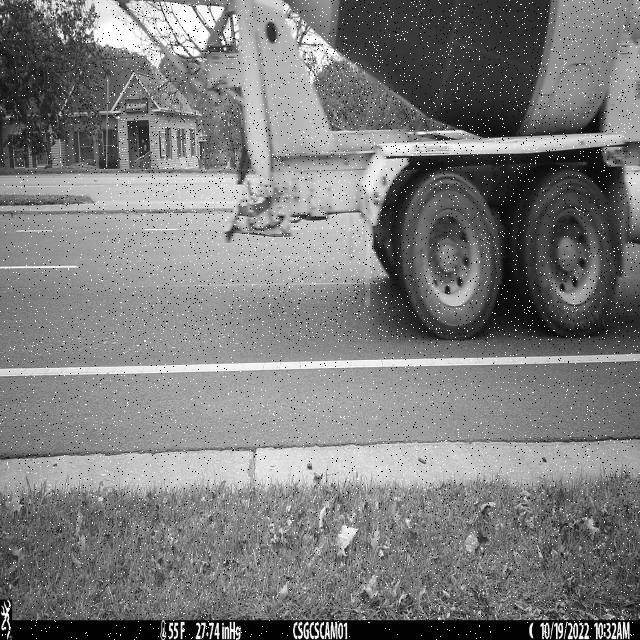Concrete Mixer: (112, 0, 640, 341)
